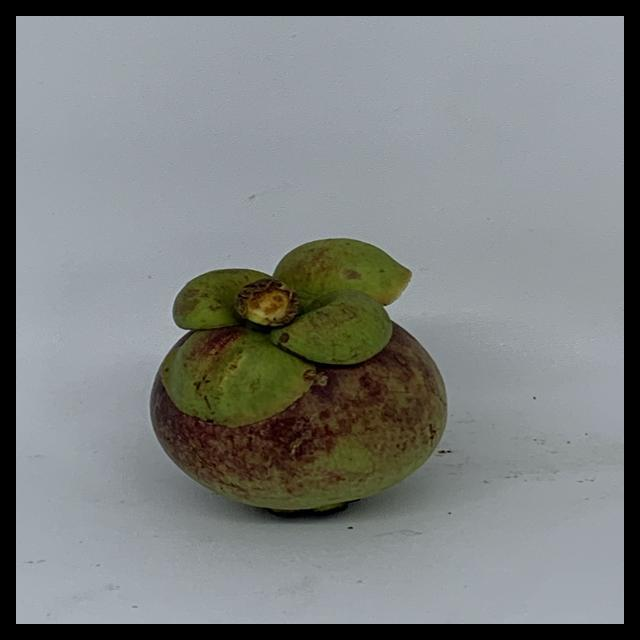mangosteen: (116, 223, 469, 523)
